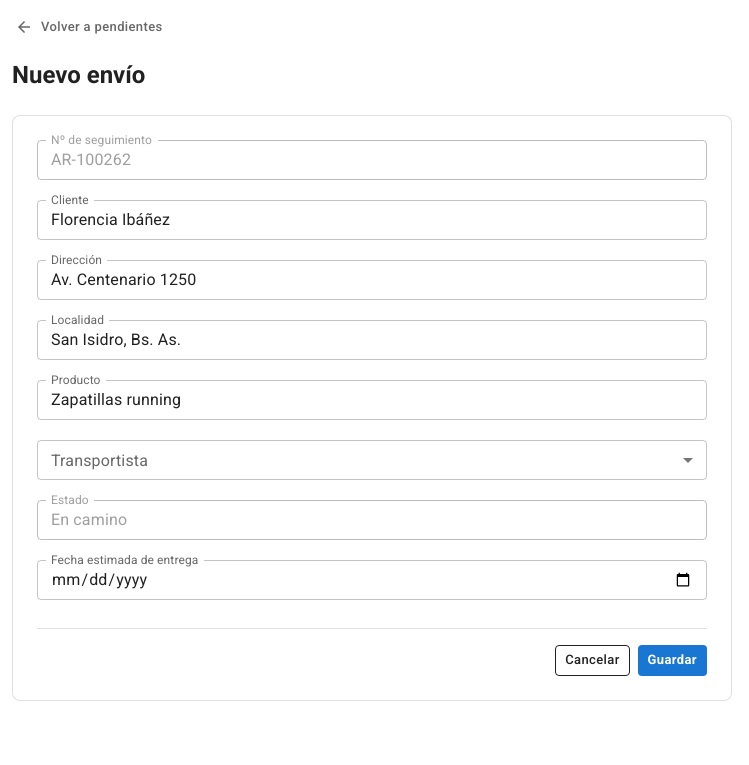
NewShipmentPage › pide elegir de nuevo si el transportista elegido está inactivo
What coordinates should you click on to do the following:
click the button "Guardar"
I would click on:
 (672, 660)
Its box is top-left (638, 645), bottom-right (707, 676).
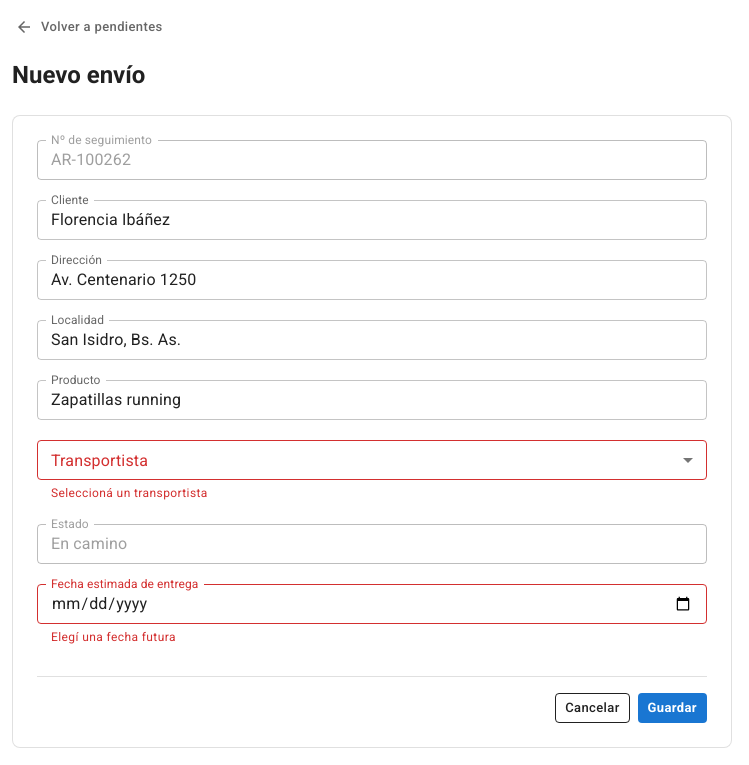
Expected: the text "Seleccioná un transportista" is shown, top-left (51, 486), bottom-right (208, 500)
